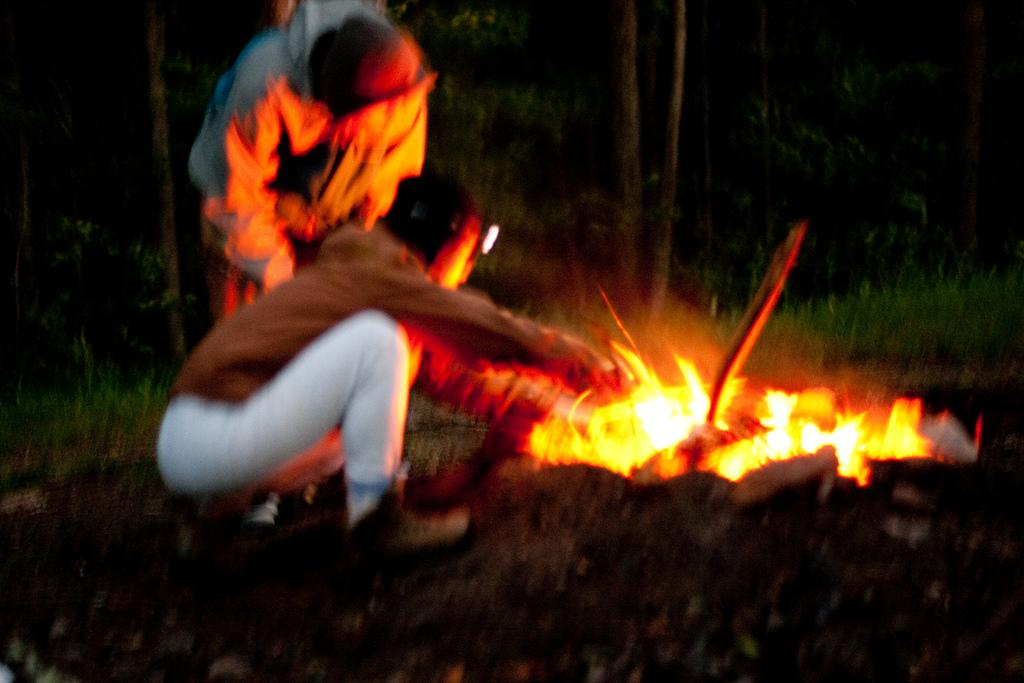fire: (763, 402, 915, 457), (635, 372, 710, 450)
